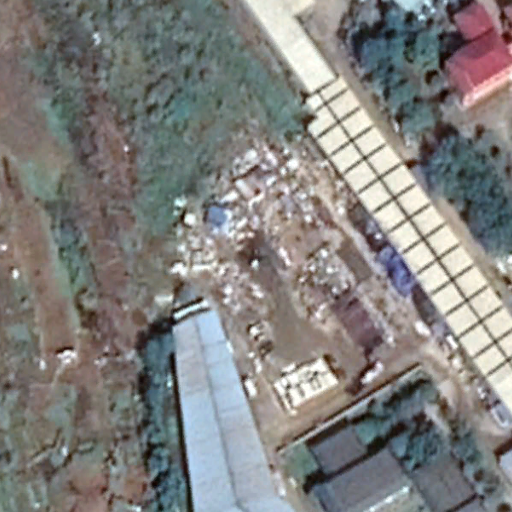msw: (177, 141, 417, 383)
